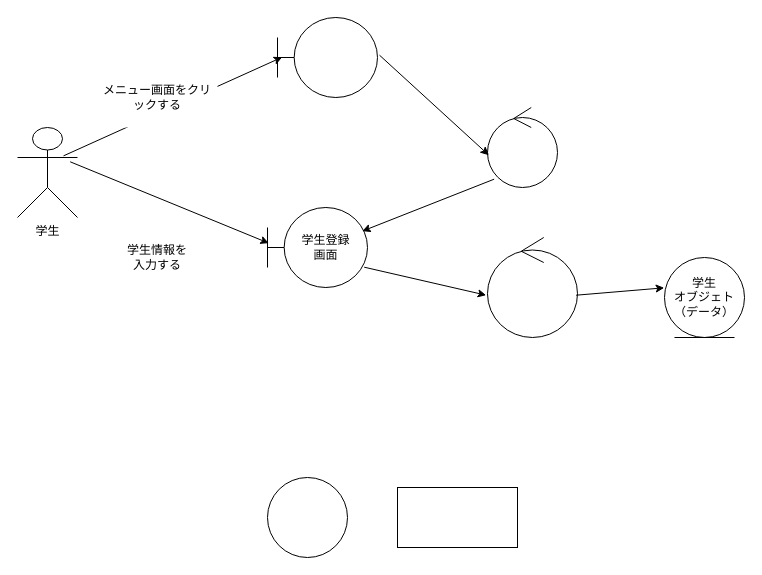
Image size: 762x575. Some labels were removed from this diagram. Each missing label, with the centre of its shape:
"メニュー 画面" belongs at [327,57].
"学生情報 登録" belongs at [532,287].
"表示" belongs at [522,147].
